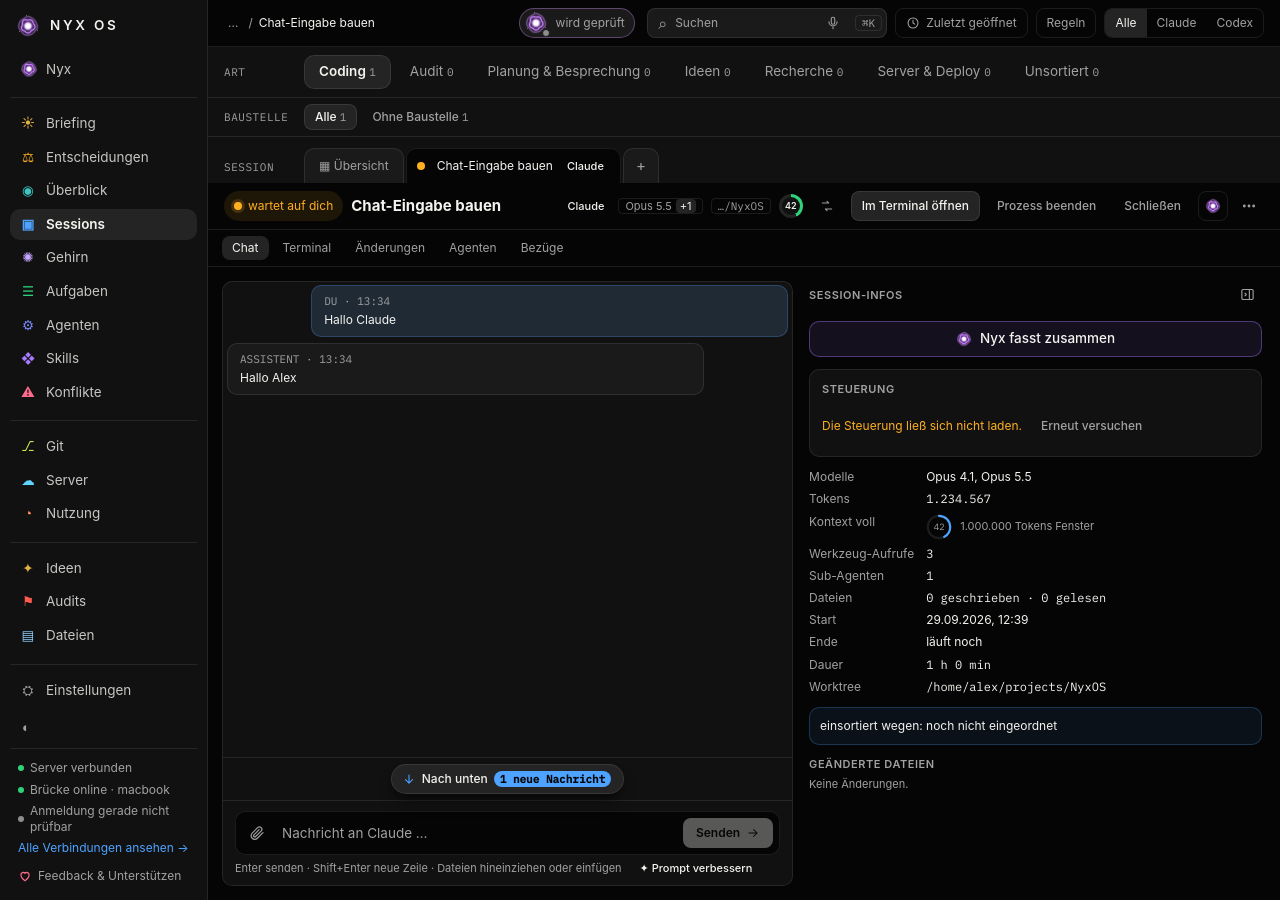
Prompt verbessern › Verbessern schickt den Entwurf an Sonnet und zeigt Prompt + „Was ich verbessert habe“; Entwurf bleibt gemerkt
Click the button "✦ Prompt verbessern" at (696, 868), box [634, 859, 758, 877]
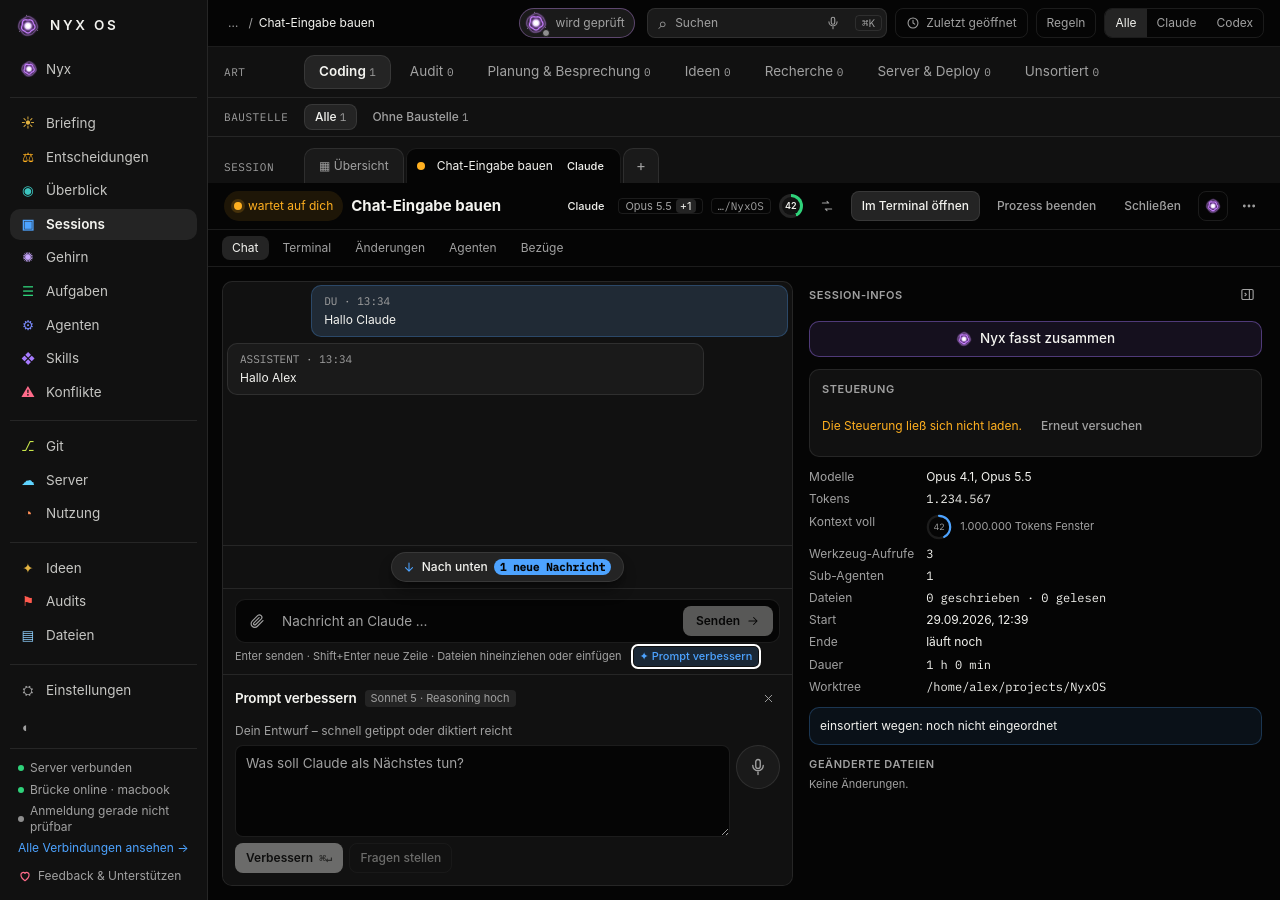
Type "mach die chat eingabe fertig bidde" into the text box labelled "Dein Entwurf – schnell getippt oder diktiert reicht" at (483, 791), box [235, 745, 730, 837]
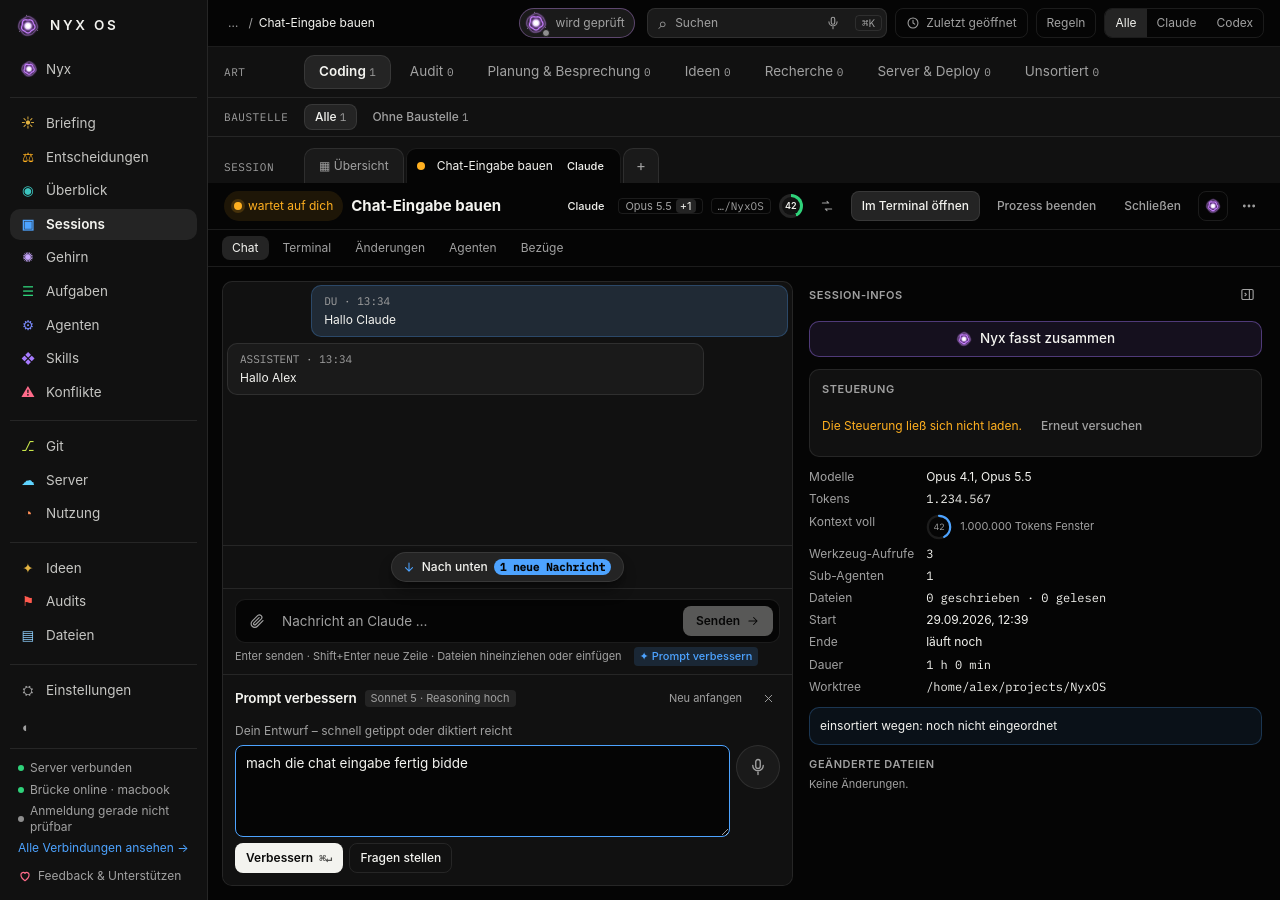
Check: the text "Sonnet 5 · Reasoning hoch" is shown, box [364, 690, 516, 707]
Click the button "Verbessern ⌘↵" at (289, 858), box [235, 843, 343, 873]
(page scrolled)
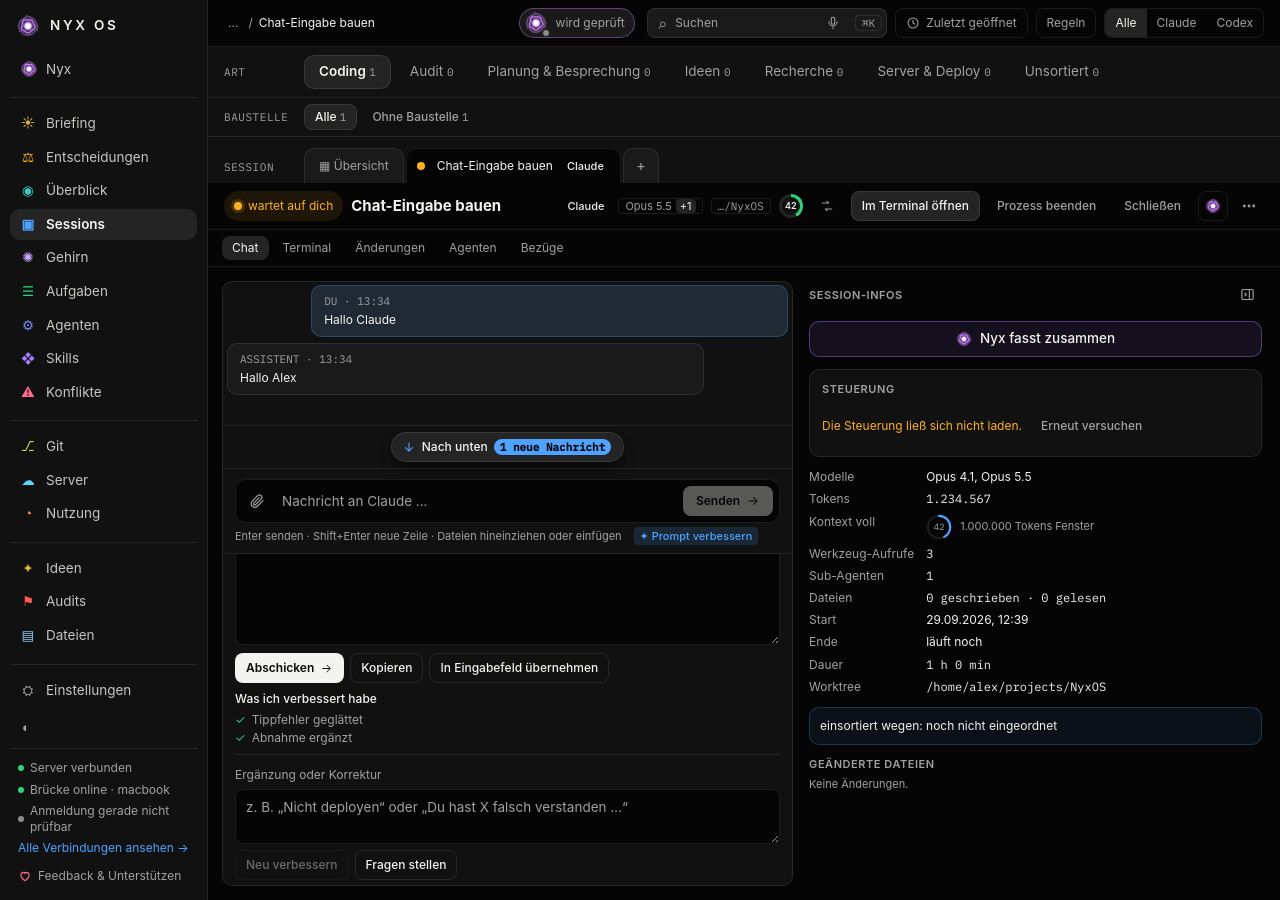
Check: the text "Tippfehler geglättet" is shown, box [252, 712, 363, 728]
